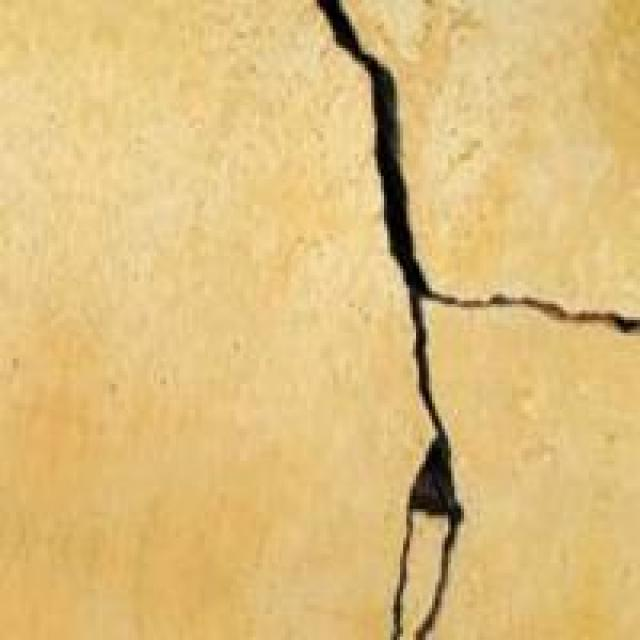crack: (272, 0, 634, 637)
